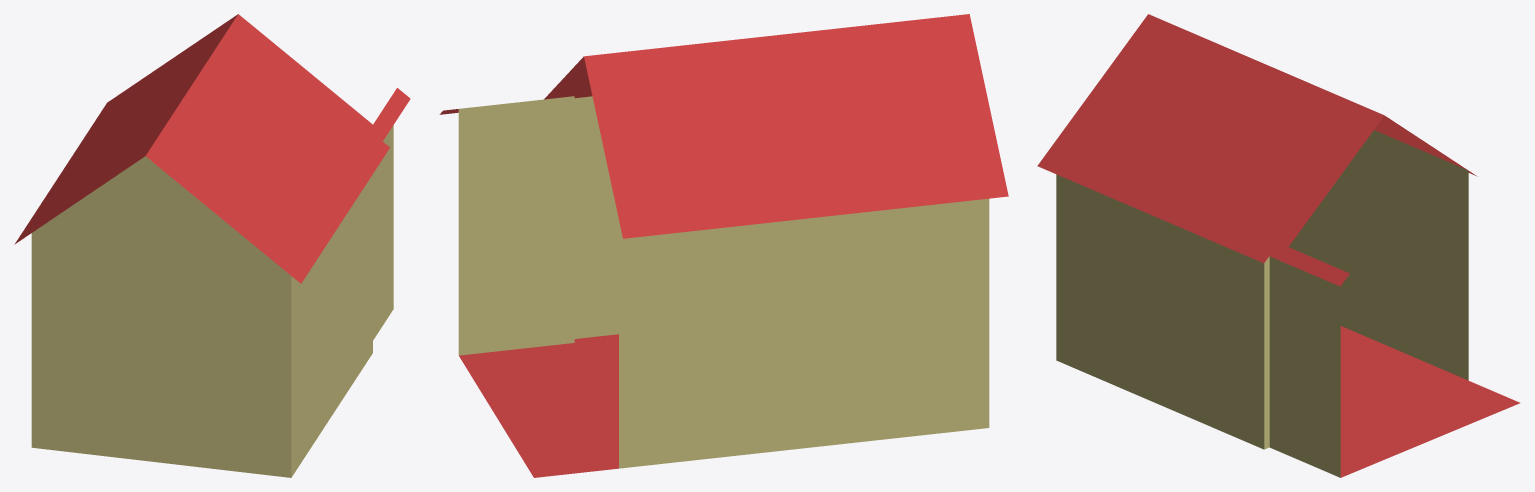
The picture shows the model from 3 angles, left to right: view 1: azimuth 30°, elevation 25°; view 2: azimuth 150°, elevation 25°; view 3: azimuth 270°, elevation 25°; orthographic projection. The views are drawn at different scales.
Size of the model in its own units: 18.42 by 17.85 by 12.23.
